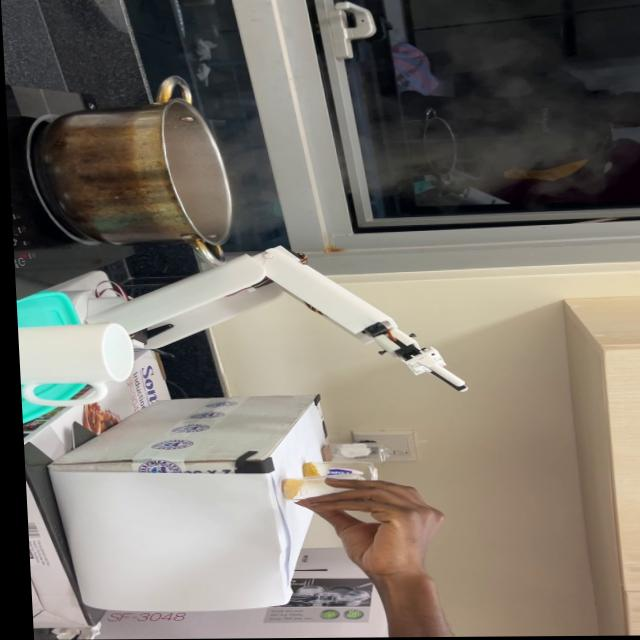cooking_pot: (34, 75, 238, 269)
curry_powder: (293, 462, 315, 479)
garlic_powder: (271, 478, 302, 503)
maggie_open: (314, 443, 329, 462)
